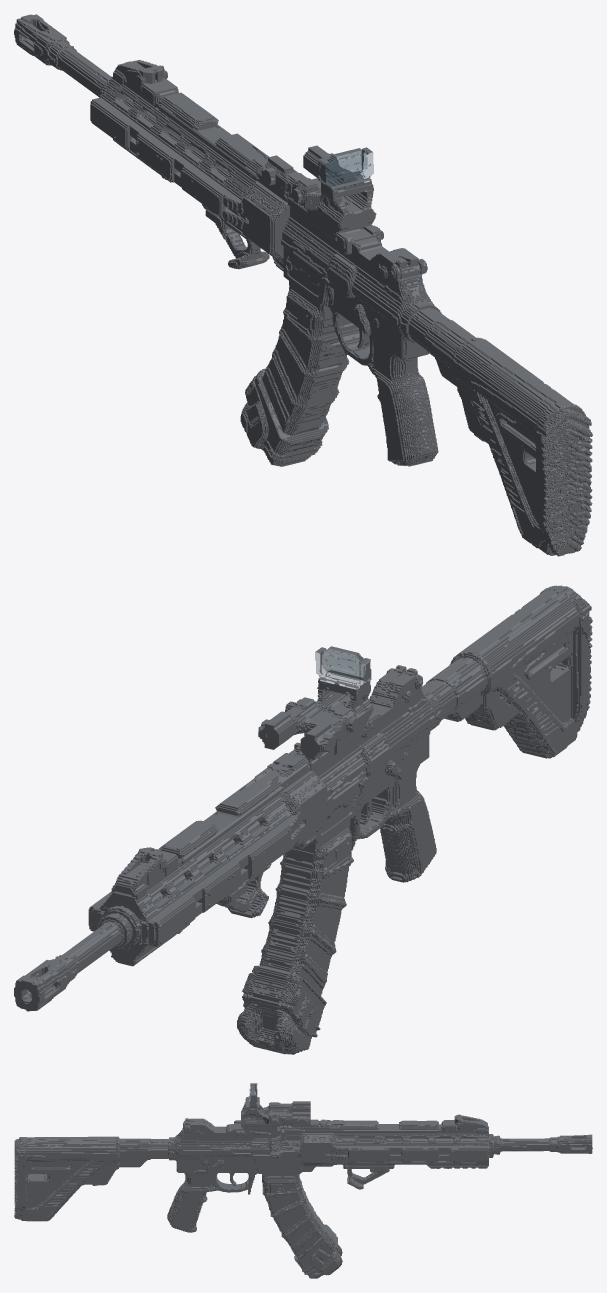
File: qbz191.glb
The picture shows the model from 3 angles, top to bottom: view 1: azimuth 30°, elevation 25°; view 2: azimuth 150°, elevation 25°; view 3: azimuth 270°, elevation 25°; orthographic projection. The views are drawn at different scales.
Parts seen in each view (by area): view 1: Gun, Mag; view 2: Gun, Mag; view 3: Gun, Mag.
Boxes of the visible parts, box(x1,y1,x2,y2) form: Gun: box(14, 14, 592, 556); Mag: box(240, 307, 369, 466); Gun: box(14, 585, 592, 1011); Mag: box(237, 823, 372, 1054); Gun: box(14, 1083, 592, 1232); Mag: box(235, 1181, 342, 1278).
Size of the model in its own units: 0.0992 by 0.4256 by 1.18.
